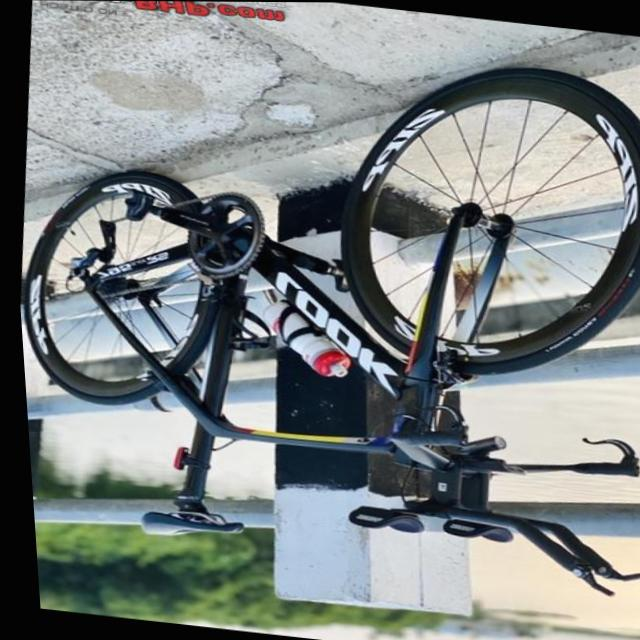TT-bike: (0, 6, 640, 600)
